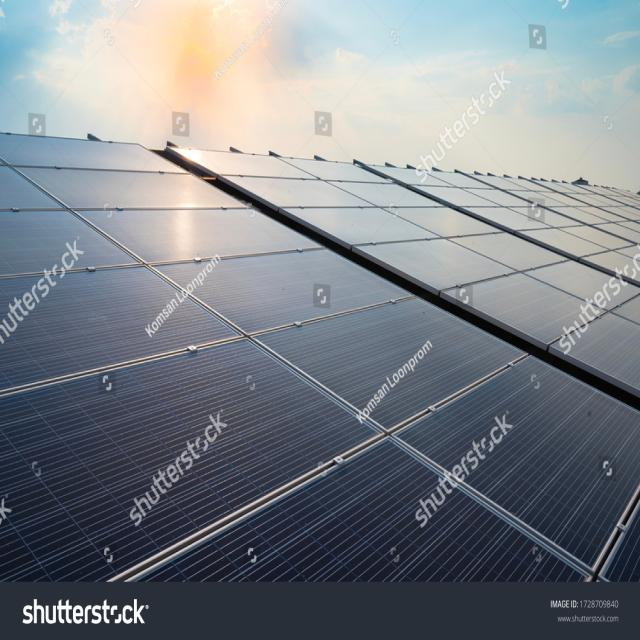clean-solar-panel: (1, 131, 640, 582)
